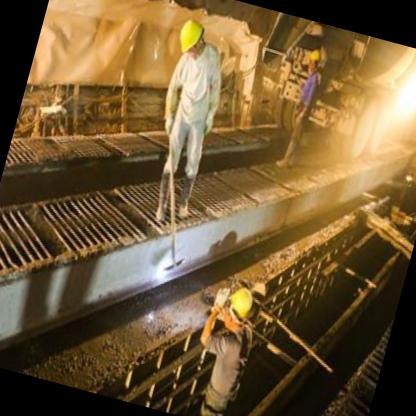helmet: (170, 11, 210, 67), (218, 282, 258, 338), (303, 43, 322, 74)
